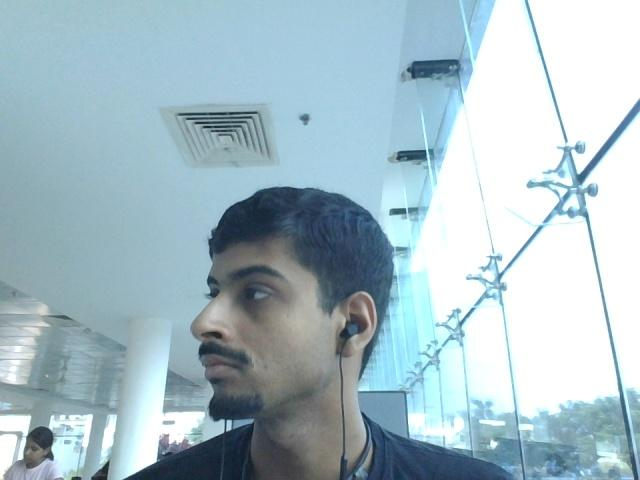average: (170, 176, 397, 432)
